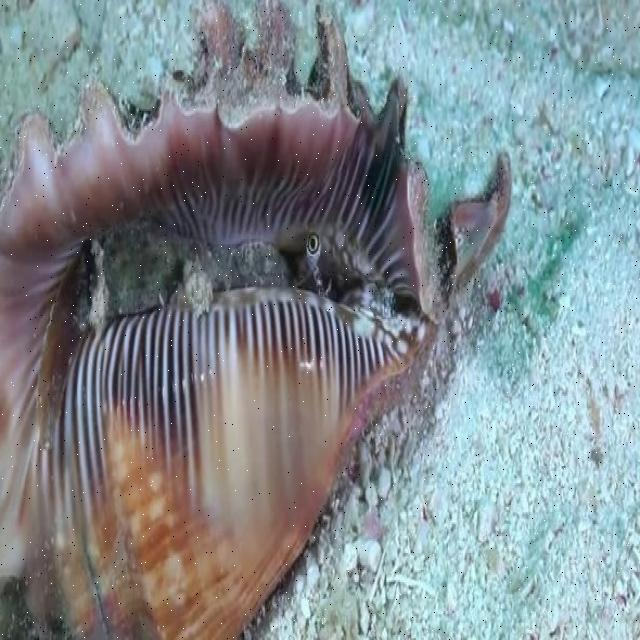reefs: (1, 3, 514, 638)
